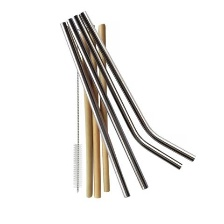drinking_straw: (73, 8, 198, 165)
